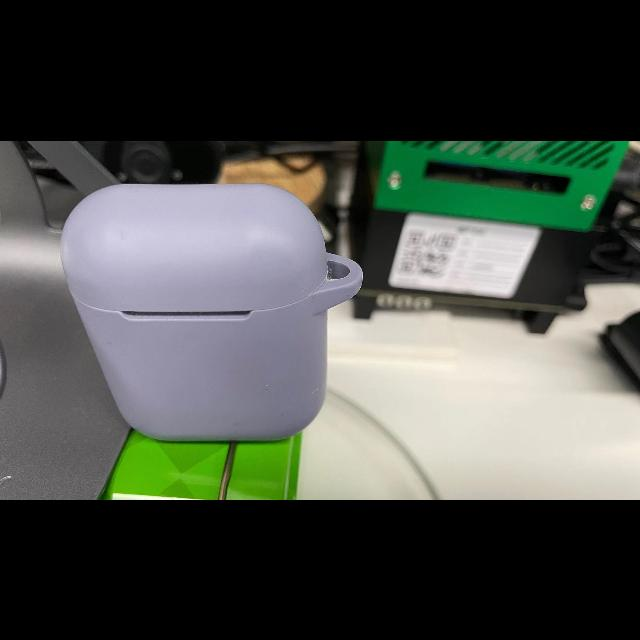airpods: (60, 184, 364, 441)
